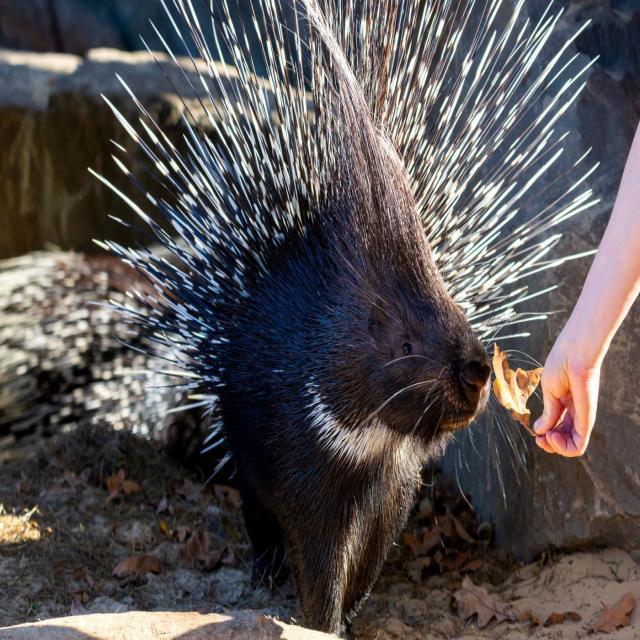Porcupine: (0, 45, 494, 604)
